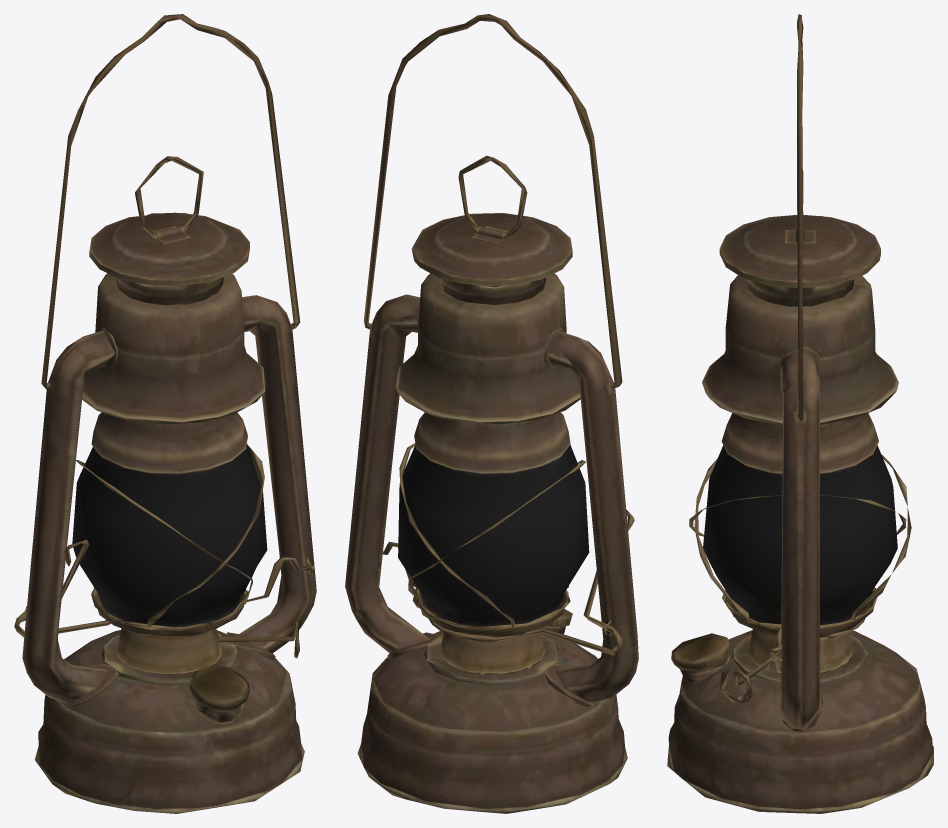
File: Lantern_01_lod1.glb
3 renders of one model, left to right at view 1: azimuth 30°, elevation 25°; view 2: azimuth 150°, elevation 25°; view 3: azimuth 270°, elevation 25°, orthographic.
Visible parts, largest first — view 1: Lantern_01, Lantern_01_glass; view 2: Lantern_01, Lantern_01_glass; view 3: Lantern_01, Lantern_01_glass.
Boxes of the visible parts, x1=… form: Lantern_01: x1=14, y1=14, x2=316, y2=813; Lantern_01_glass: x1=72, y1=444, x2=267, y2=626; Lantern_01: x1=345, y1=14, x2=638, y2=813; Lantern_01_glass: x1=398, y1=445, x2=589, y2=626; Lantern_01: x1=667, y1=14, x2=933, y2=813; Lantern_01_glass: x1=703, y1=445, x2=897, y2=625.
Size of the model in its own units: 0.1217 by 0.2938 by 0.0959.
2 materials, 2 textured.
